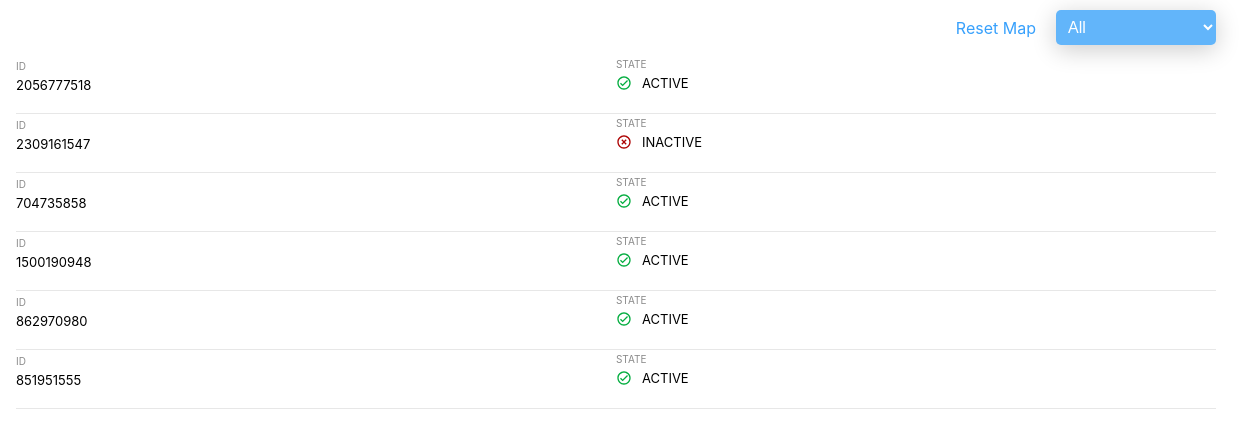
Free Now › Filter by state - ACTIVE
Select "Active" in the dropdown with test id "select-component" at (1136, 28), box left=1056, top=10, right=1216, bottom=45
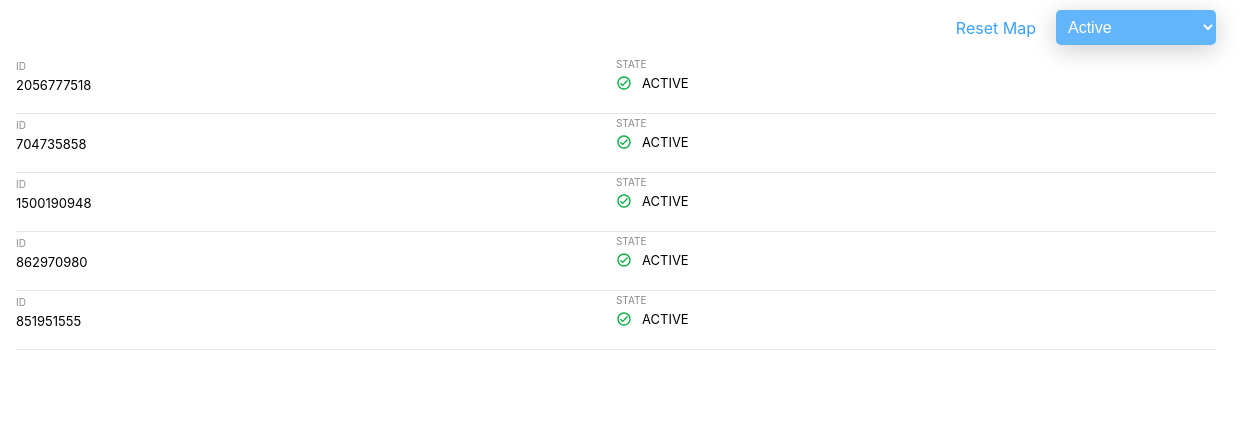
Expected: the number of elements with test id "free-now-vehicle-item" is 5, left=16, top=58, right=689, bottom=92; left=16, top=117, right=689, bottom=152; left=16, top=176, right=689, bottom=210; left=16, top=235, right=689, bottom=270; left=16, top=294, right=689, bottom=328
